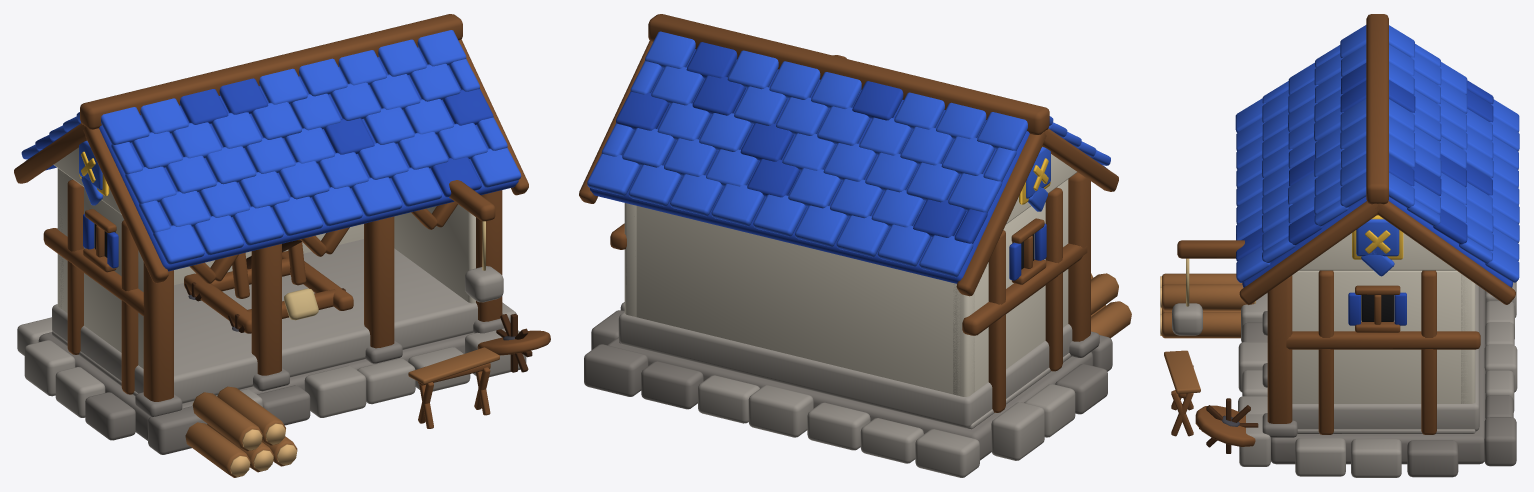
File: SiegeWorkshop.glb
3 renders of one model, left to right at view 1: azimuth 30°, elevation 25°; view 2: azimuth 150°, elevation 25°; view 3: azimuth 270°, elevation 25°, orthographic. The views are drawn at different scales.
Visible parts, largest first — view 1: SiegeWorkshop; view 2: SiegeWorkshop; view 3: SiegeWorkshop.
Boxes of the visible parts, x1,y1,x2,y2 form: SiegeWorkshop: [14, 14, 550, 477]; SiegeWorkshop: [579, 14, 1131, 477]; SiegeWorkshop: [1160, 14, 1519, 477].
Size of the model in its own units: 4.4 by 3.08 by 3.5.
